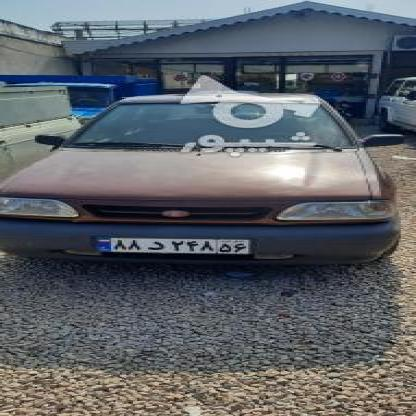licence: (87, 236, 251, 254)
